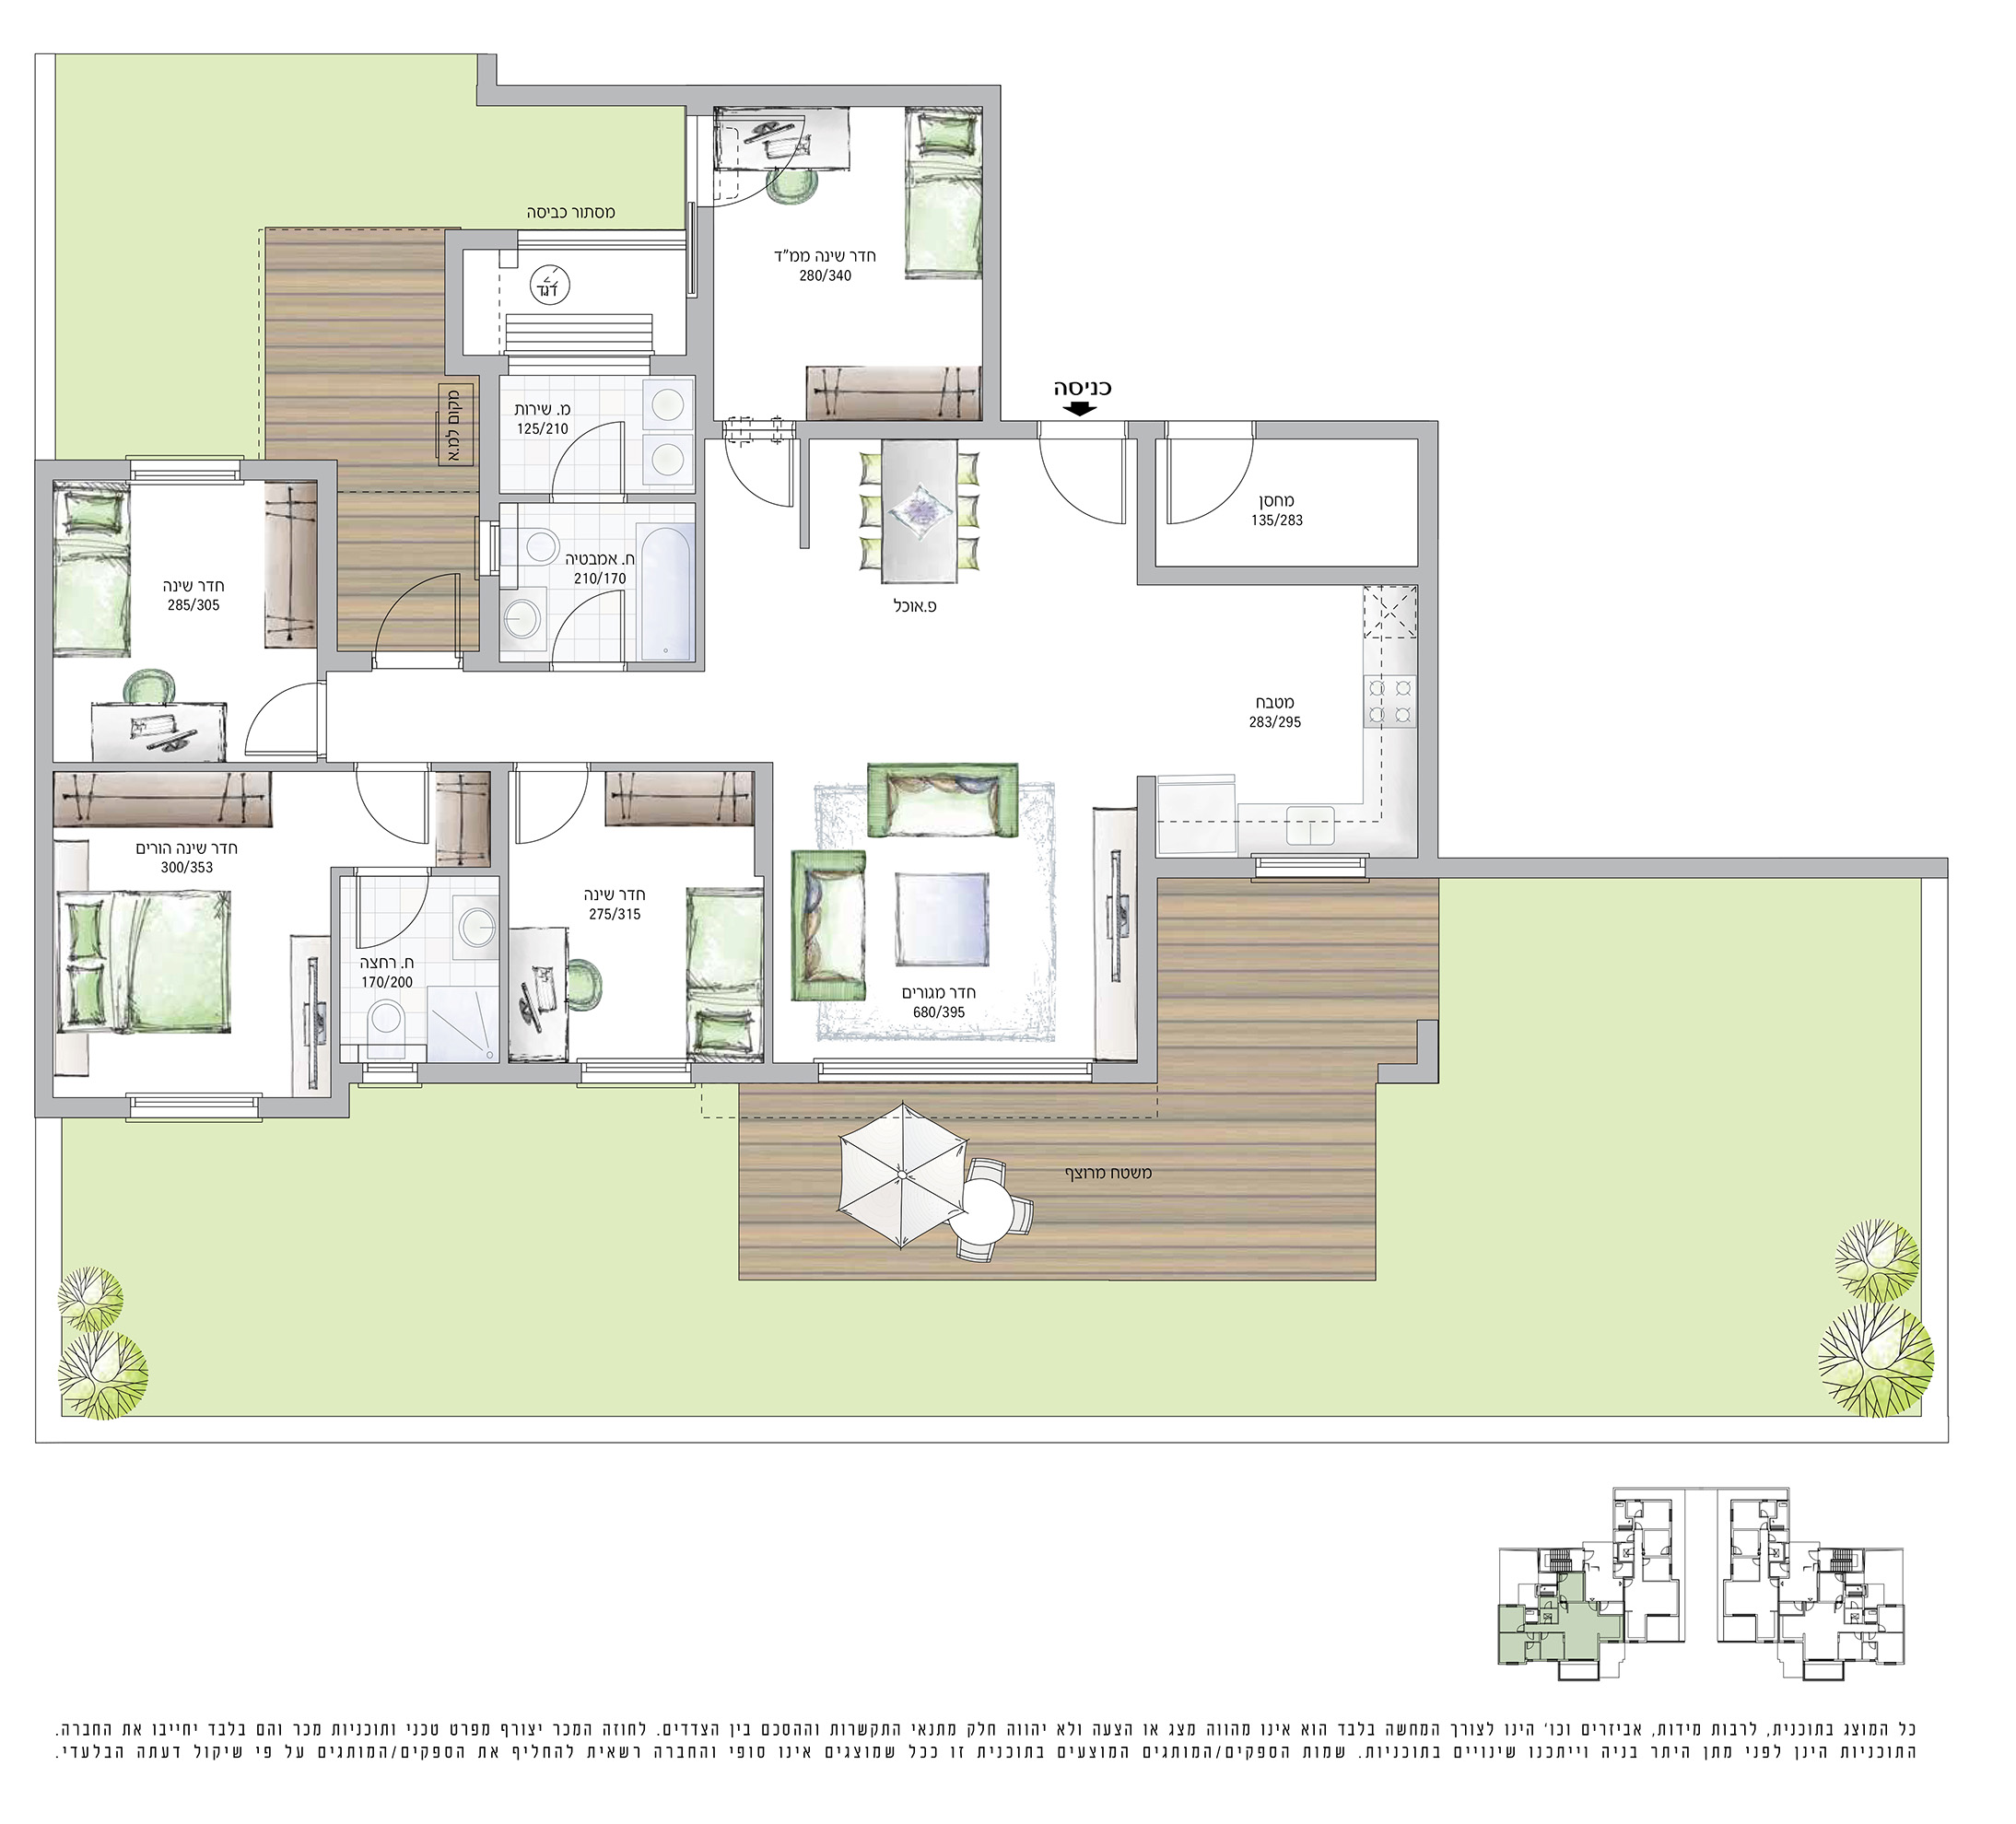room: (764, 416, 1159, 1095), (760, 757, 1161, 1088), (676, 83, 1004, 441), (28, 760, 353, 1122), (30, 448, 339, 774), (1134, 565, 1440, 887), (490, 760, 774, 1092), (1134, 414, 1444, 586), (478, 488, 711, 676), (443, 219, 716, 379), (327, 864, 513, 1090), (478, 355, 720, 509)
